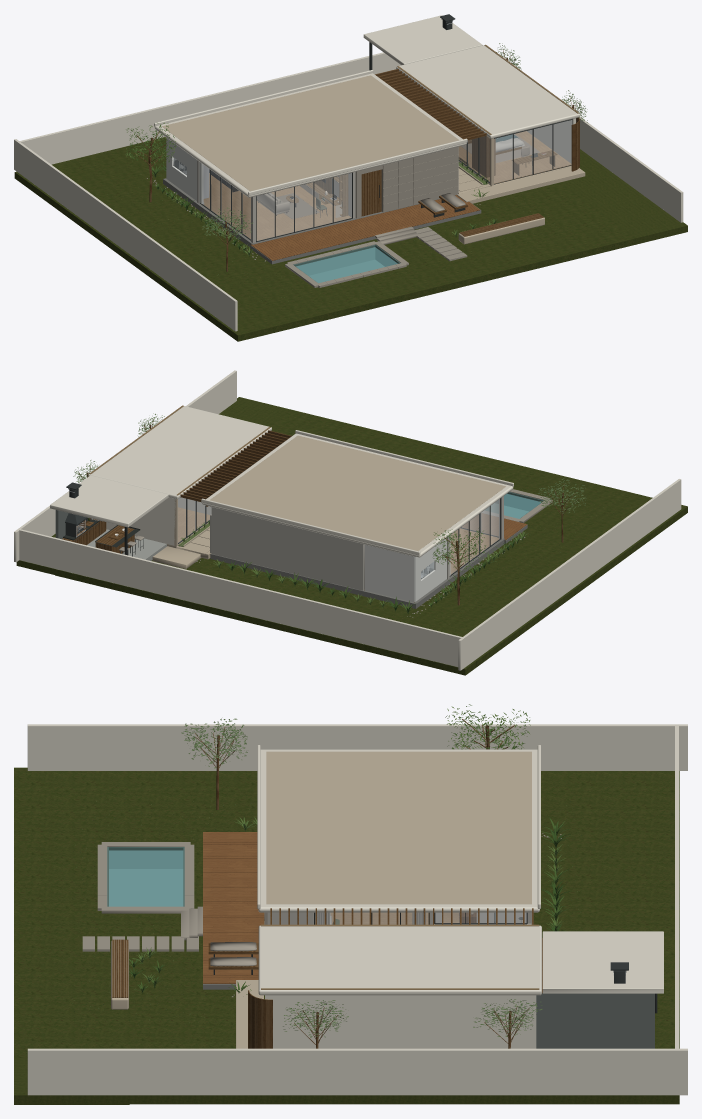
The model's file is casa-horizonte-leve.glb.
The picture shows the model from 3 angles, top to bottom: view 1: azimuth 30°, elevation 25°; view 2: azimuth 150°, elevation 25°; view 3: azimuth 270°, elevation 25°; orthographic projection. The views are drawn at different scales.
Visible parts, largest first — view 1: Solo gramado contínuo, Horizonte muro fundos, Horizonte impermeabilização, Horizonte cobertura principal, Bandeira banheiro • vidro, Horizonte jardim extensão, Pavilhão fachada jardim vidro, Fachada entrada trecho direito, Régua deck, Piso ala íntima, Horizonte banco jardim, Borda piscina lateral (+19 smaller); view 2: Solo gramado contínuo, Horizonte muro fundos, Horizonte impermeabilização, Horizonte cobertura principal, Cinta lateral cozinha, Horizonte jardim extensão, Ombreira junto ao microondas, Horizonte acabamento lateral, Laje de piso, Pavilhão parede leste, Bandeira banheiro • vidro, G2_bandeja borda (+16 smaller); view 3: Solo gramado contínuo, Horizonte muro fundos, Horizonte impermeabilização, Horizonte cobertura principal, Pavilhão parede leste, Horizonte jardim extensão, Régua deck, Gourmet • parede churrasqueira, Piscina fundo, Água, Borda piscina lateral, Jardim folhas individuais.001 (+14 smaller).
Part boxes in pixels (box(x1,y1,x2,y2)): Solo gramado contínuo: box(25, 146, 637, 341); Horizonte muro fundos: box(14, 52, 683, 331); Horizonte impermeabilização: box(162, 75, 458, 191); Horizonte cobertura principal: box(154, 15, 580, 197); Bandeira banheiro • vidro: box(202, 164, 351, 240); Horizonte jardim extensão: box(14, 137, 687, 244); Pavilhão fachada jardim vidro: box(459, 120, 571, 183); Fachada entrada trecho direito: box(355, 147, 458, 218); Régua deck: box(251, 195, 479, 260); Piso ala íntima: box(203, 173, 351, 240); Horizonte banco jardim: box(457, 166, 585, 244); Borda piscina lateral: box(146, 164, 486, 287); Solo gramado contínuo: box(151, 409, 687, 667); Horizonte muro fundos: box(14, 370, 681, 670); Horizonte impermeabilização: box(210, 435, 505, 550); Horizonte cobertura principal: box(50, 406, 513, 557); Cinta lateral cozinha: box(210, 496, 503, 590); Horizonte jardim extensão: box(16, 397, 476, 675); Ombreira junto ao microondas: box(365, 535, 450, 602); Horizonte acabamento lateral: box(180, 430, 291, 506); Laje de piso: box(210, 528, 504, 608); Pavilhão parede leste: box(106, 497, 211, 545); Bandeira banheiro • vidro: box(451, 499, 499, 574); G2_bandeja borda: box(62, 519, 134, 553); Solo gramado contínuo: box(14, 767, 646, 1058); Horizonte muro fundos: box(27, 724, 687, 1095); Horizonte impermeabilização: box(266, 751, 531, 904); Horizonte cobertura principal: box(257, 745, 663, 995); Pavilhão parede leste: box(265, 995, 536, 1048); Horizonte jardim extensão: box(14, 771, 679, 1104); Régua deck: box(203, 832, 264, 983); Gourmet • parede churrasqueira: box(536, 993, 654, 1048); Piscina fundo: box(107, 847, 184, 906); Água: box(109, 850, 183, 906); Borda piscina lateral: box(82, 833, 561, 997); Jardim folhas individuais.001: box(181, 718, 542, 1037).
Bounding box in the file's own units: 28.18 × 5.29 × 24.5.
102 materials, 29 textured.
